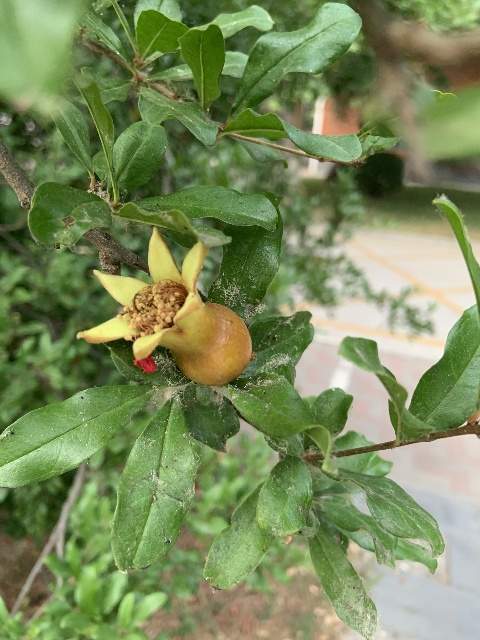early-fruit: (76, 226, 253, 385)
